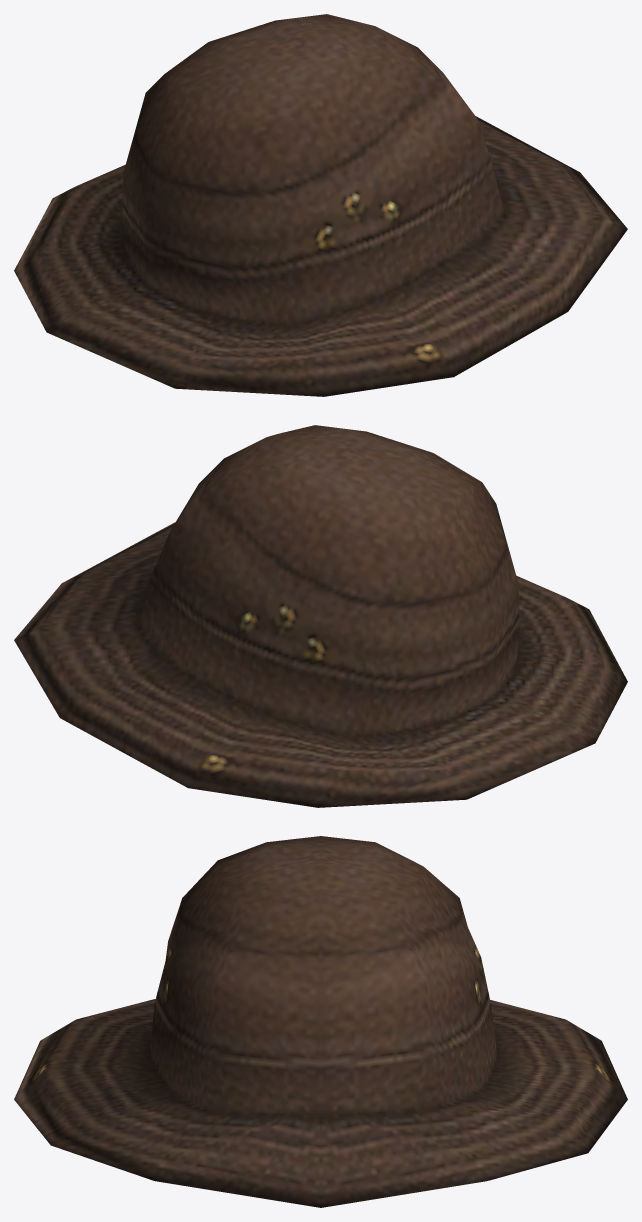
The model's file is hat_0400056.FBX.
3 renders of one model, top to bottom at view 1: azimuth 30°, elevation 25°; view 2: azimuth 150°, elevation 25°; view 3: azimuth 270°, elevation 25°, orthographic. The views are drawn at different scales.
Visible parts, largest first — view 1: hat_0400056; view 2: hat_0400056; view 3: hat_0400056.
Boxes of the visible parts, x1,y1,x2,y2 form: hat_0400056: (14, 14, 627, 396); hat_0400056: (14, 425, 627, 807); hat_0400056: (14, 836, 627, 1207).
Size of the model in its own units: 45.98 by 20.03 by 44.27.
